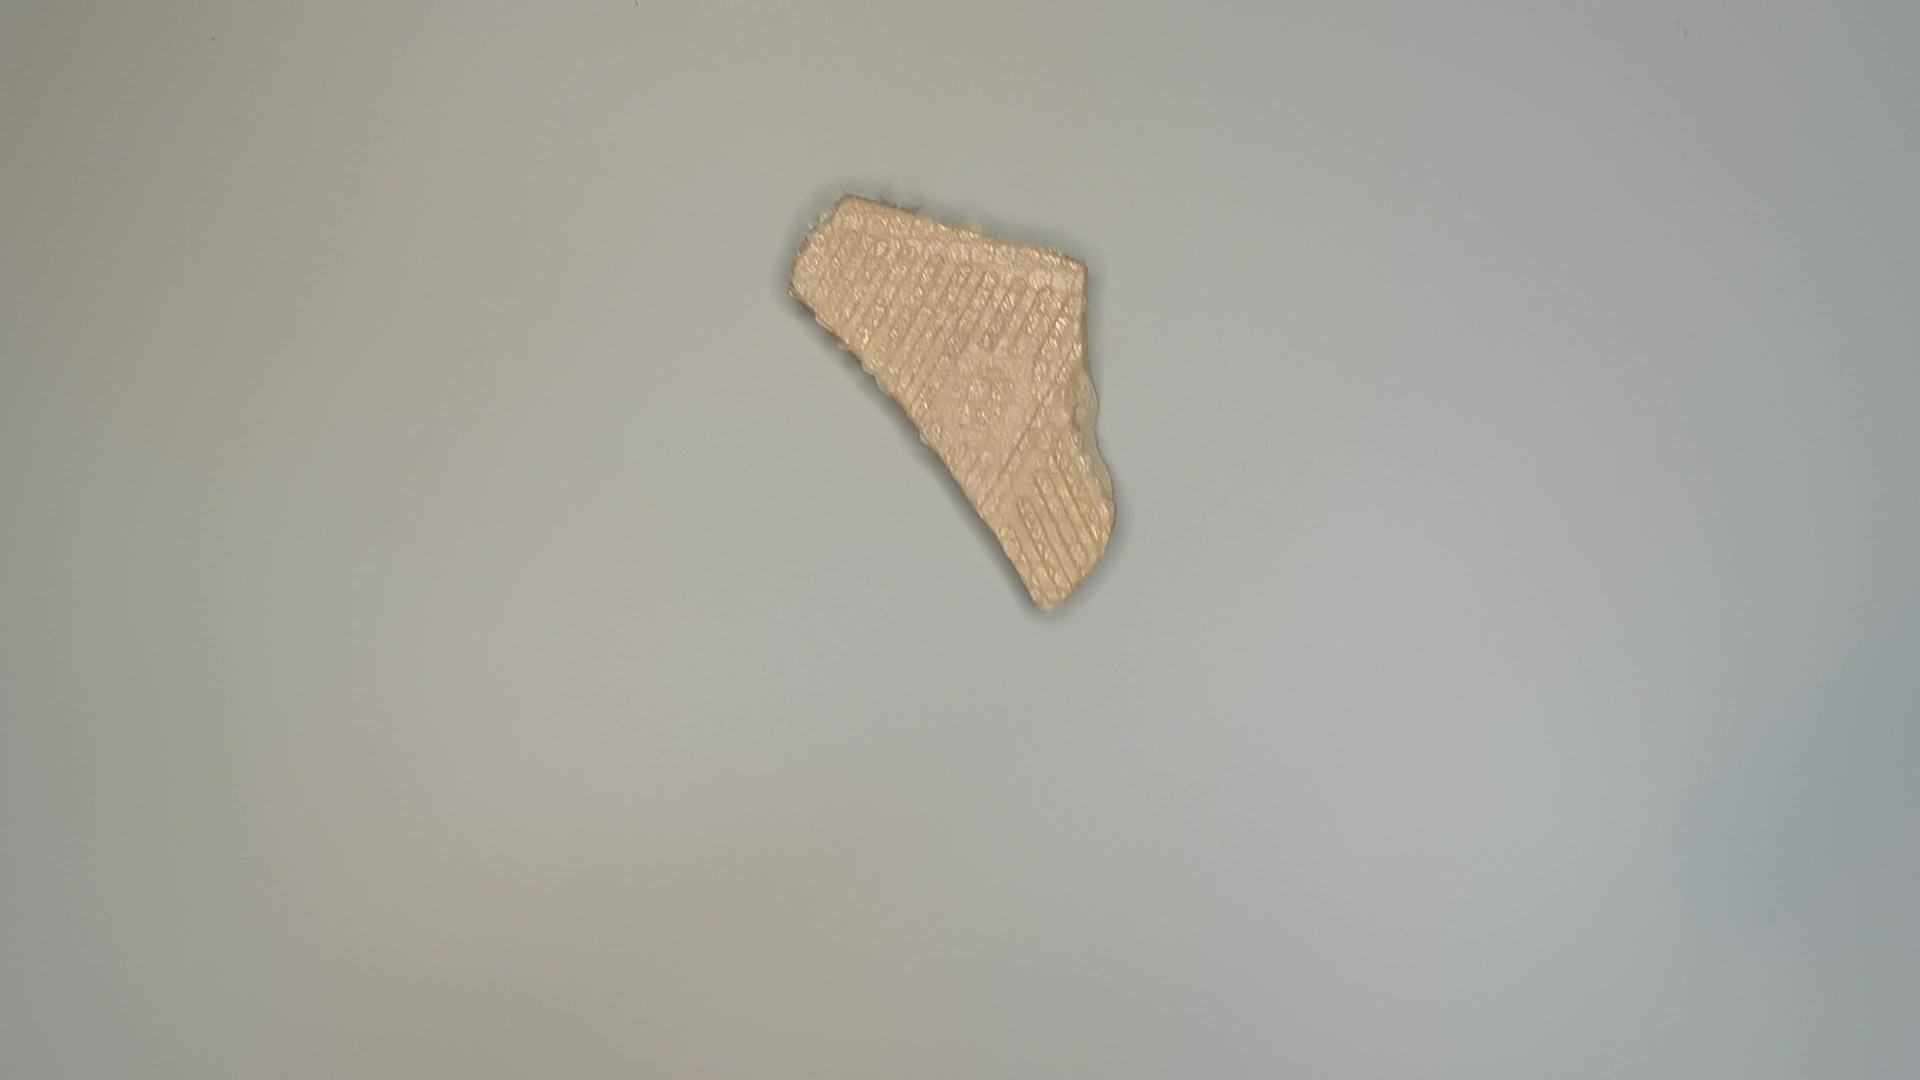ceramic: (785, 185, 1126, 628)
